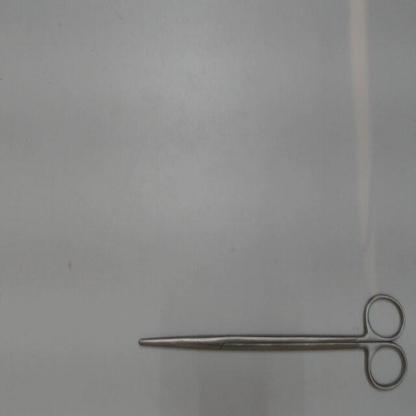9 Metzenbaum Scissors: (136, 287, 412, 398)
